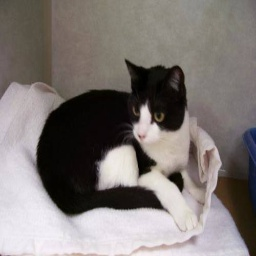cat: (33, 59, 205, 235)
